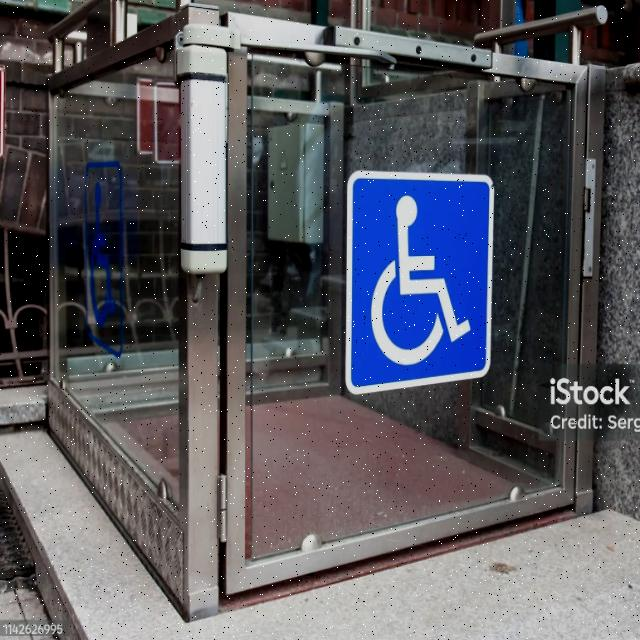symbol_of_access: (344, 166, 496, 398)
